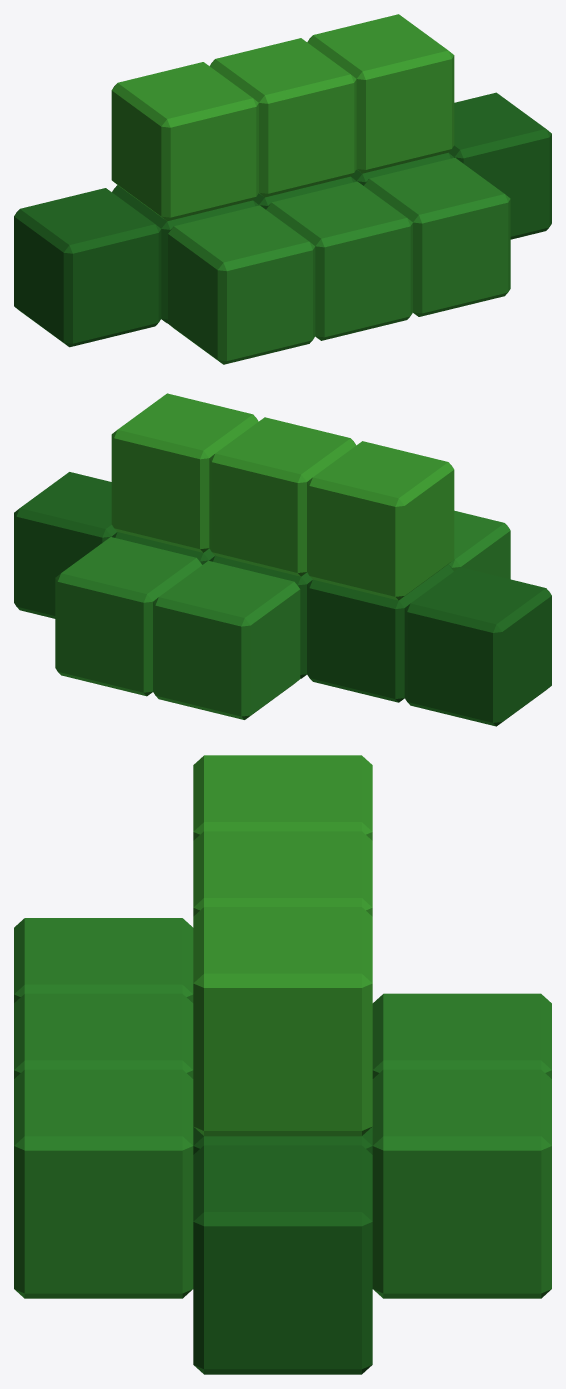
File: wide-bush.glb
The picture shows the model from 3 angles, top to bottom: view 1: azimuth 30°, elevation 25°; view 2: azimuth 150°, elevation 25°; view 3: azimuth 270°, elevation 25°; orthographic projection. The views are drawn at different scales.
Parts seen in each view (by area): view 1: Voxel cell -2 0 0, Voxel cell -1 0 1, Voxel cell -1 1 0, Voxel cell 1 1 0, Voxel cell 0 0 1, Voxel cell 1 0 1, Voxel cell 0 1 0, Voxel cell 2 0 0, Voxel cell -1 0 0, Voxel cell 1 0 0, Voxel cell 0 0 0; view 2: Voxel cell -2 0 0, Voxel cell -1 1 0, Voxel cell 0 0 -1, Voxel cell 1 1 0, Voxel cell 1 0 -1, Voxel cell 0 1 0, Voxel cell -1 0 0, Voxel cell 2 0 0, Voxel cell -1 0 1, Voxel cell 0 0 0, Voxel cell 1 0 0; view 3: Voxel cell 1 1 0, Voxel cell 1 0 1, Voxel cell 1 0 -1, Voxel cell 2 0 0, Voxel cell -1 1 0, Voxel cell 0 0 1, Voxel cell 0 0 -1, Voxel cell 0 1 0, Voxel cell -1 0 1, Voxel cell 1 0 0.
Part boxes in pixels (x1,y1,x2,y2): Voxel cell -2 0 0: [14, 188, 161, 347]; Voxel cell -1 0 1: [168, 205, 315, 364]; Voxel cell -1 1 0: [111, 62, 258, 221]; Voxel cell 1 1 0: [307, 14, 454, 173]; Voxel cell 0 0 1: [266, 181, 412, 340]; Voxel cell 1 0 1: [364, 158, 510, 316]; Voxel cell 0 1 0: [210, 38, 356, 197]; Voxel cell 2 0 0: [448, 92, 551, 239]; Voxel cell -1 0 0: [112, 185, 258, 323]; Voxel cell 1 0 0: [351, 152, 454, 185]; Voxel cell 0 0 0: [253, 176, 356, 209]; Voxel cell -2 0 0: [404, 567, 551, 726]; Voxel cell -1 1 0: [307, 441, 454, 600]; Voxel cell 0 0 -1: [153, 560, 300, 719]; Voxel cell 1 1 0: [111, 393, 258, 552]; Voxel cell 1 0 -1: [55, 537, 201, 696]; Voxel cell 0 1 0: [209, 417, 356, 576]; Voxel cell -1 0 0: [307, 564, 453, 702]; Voxel cell 2 0 0: [14, 472, 116, 618]; Voxel cell -1 0 1: [448, 510, 510, 579]; Voxel cell 0 0 0: [209, 555, 312, 678]; Voxel cell 1 0 0: [112, 532, 214, 564]; Voxel cell 1 1 0: [193, 907, 372, 1136]; Voxel cell 1 0 1: [14, 1069, 193, 1298]; Voxel cell 1 0 -1: [372, 1069, 551, 1298]; Voxel cell 2 0 0: [193, 1145, 372, 1374]; Voxel cell -1 1 0: [193, 755, 372, 840]; Voxel cell 0 0 1: [14, 993, 193, 1078]; Voxel cell 0 0 -1: [372, 993, 551, 1078]; Voxel cell 0 1 0: [193, 831, 372, 916]; Voxel cell -1 0 1: [14, 918, 193, 1002]; Voxel cell 1 0 0: [193, 1127, 372, 1154].
Bounding box in the file's own units: 1.25 × 0.5 × 0.75.
